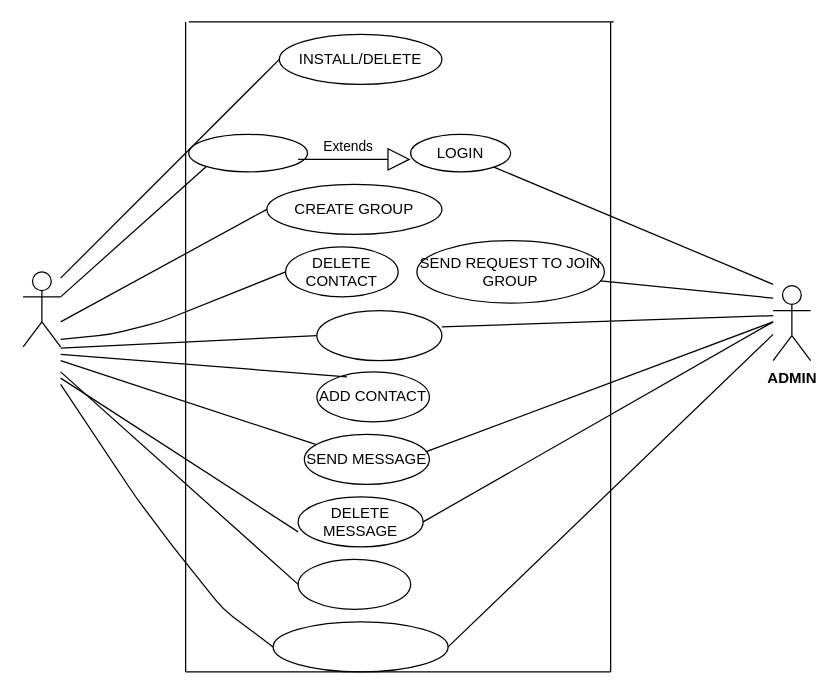
This 838x695 diagram has some shape labels left out. Here are the shapes that lost their labels. From the top down, the centre of each, then its label:
At point 248,152: "REGISTER".
At point 41,309: "USER".
At point 379,335: "BLOCK USER".
At point 354,583: "INVITE FRIENDS".
At point 360,646: "VIEW GROUP MEMBERS".
